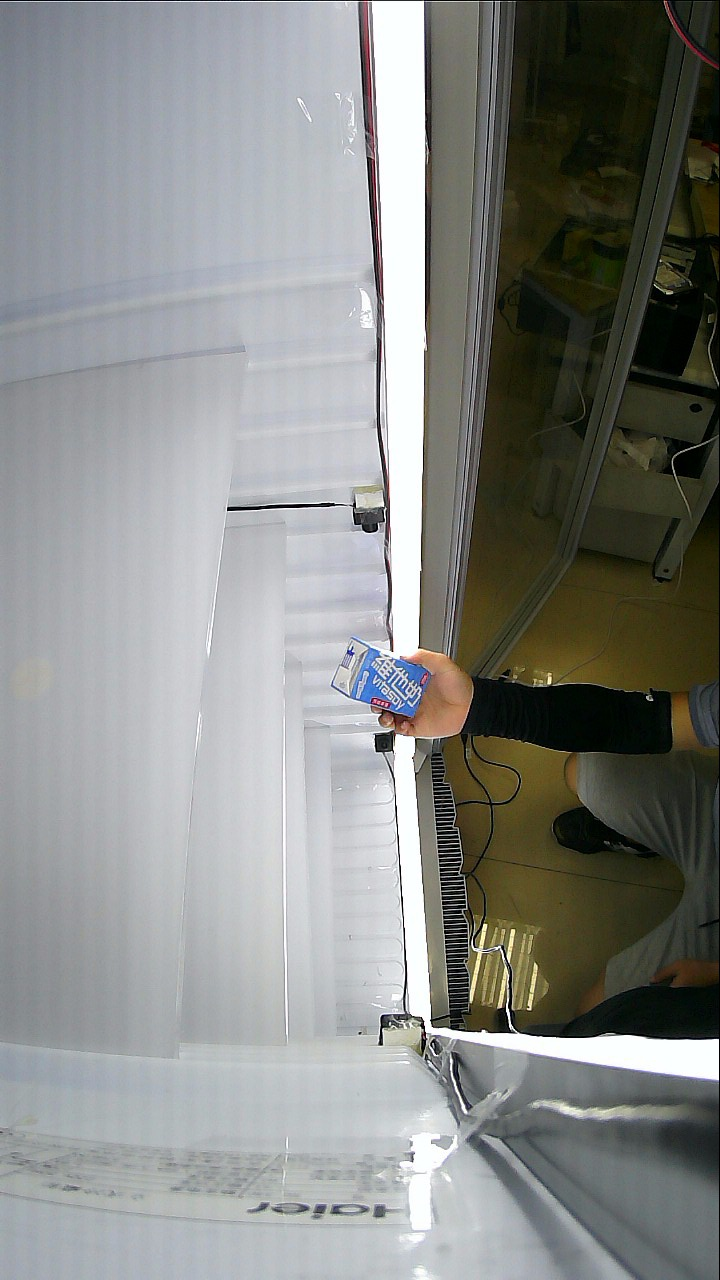VitaSoyOriginal: (345, 642, 494, 743)
